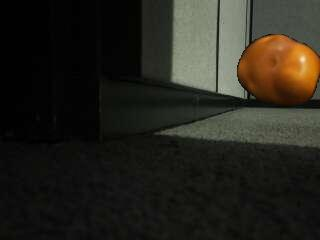Potato: (236, 32, 320, 108)
